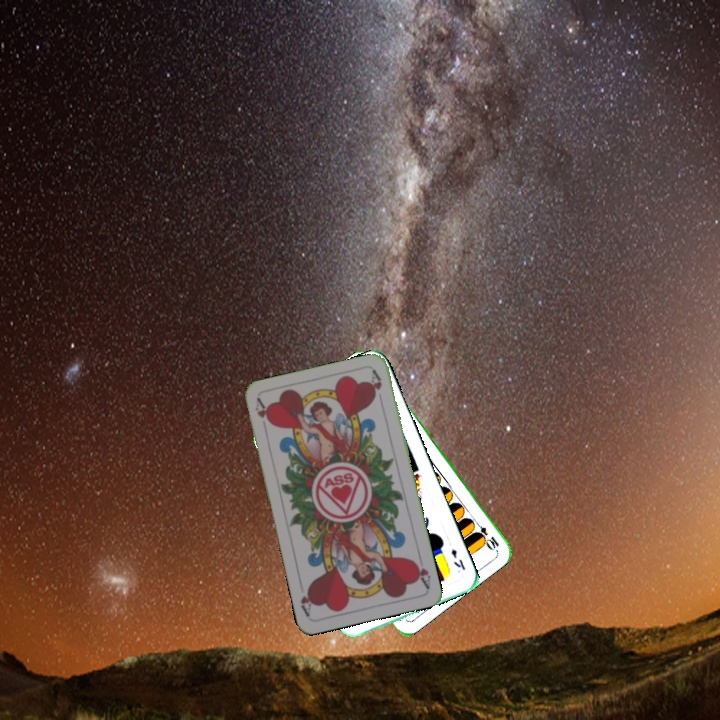E10: (469, 516, 502, 551)
EK: (447, 544, 468, 572)
HA: (409, 551, 433, 591), (251, 395, 274, 435)
